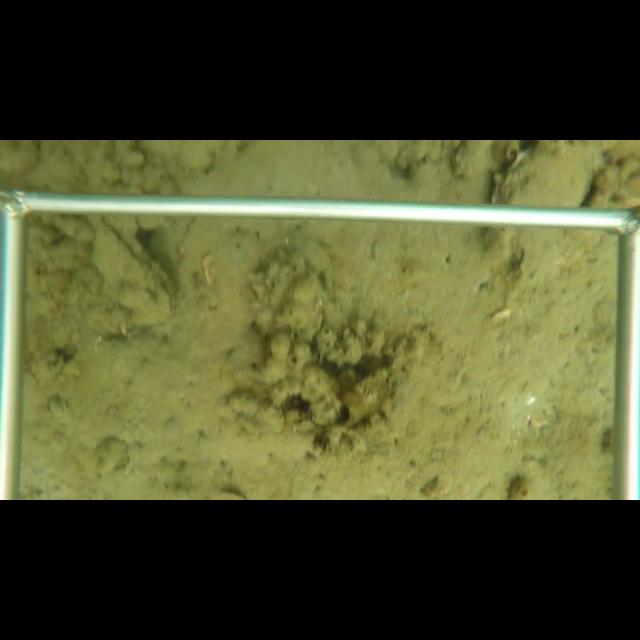Oyster-Closed: (92, 221, 179, 328), (488, 144, 608, 208)
